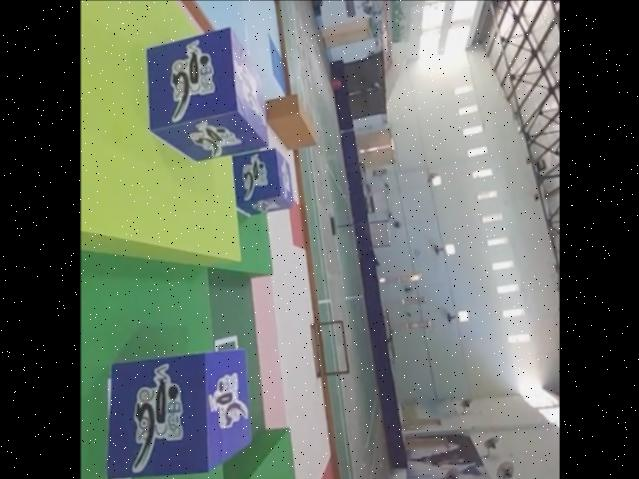R1 Blue: (101, 346, 253, 476), (141, 28, 264, 162), (231, 146, 295, 215)
